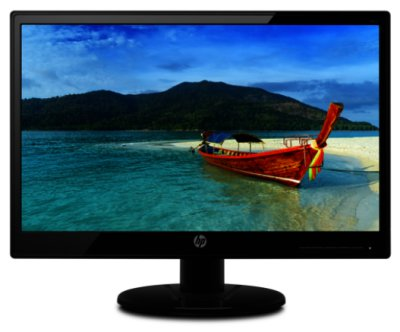hp-monitor-19ka: (7, 13, 391, 321)
